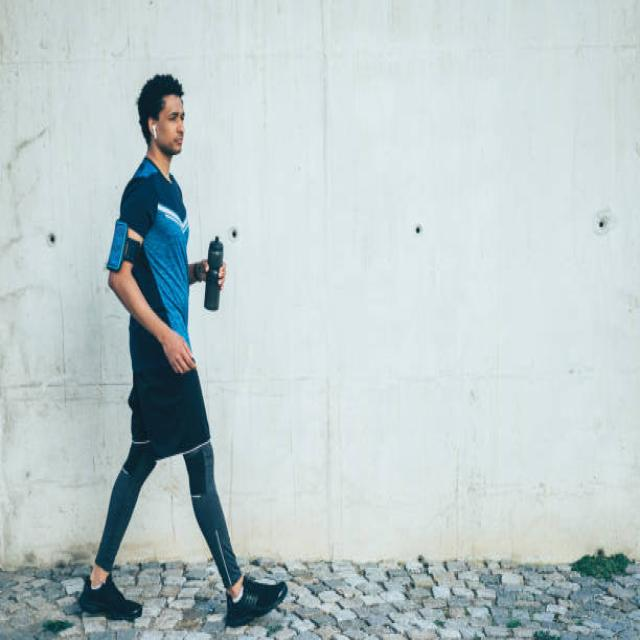airpods: (151, 122, 158, 141)
